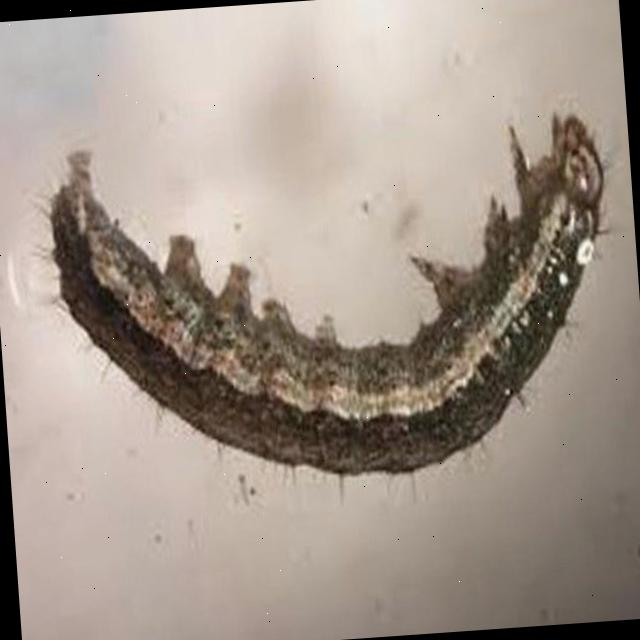worm: (34, 108, 628, 503)
